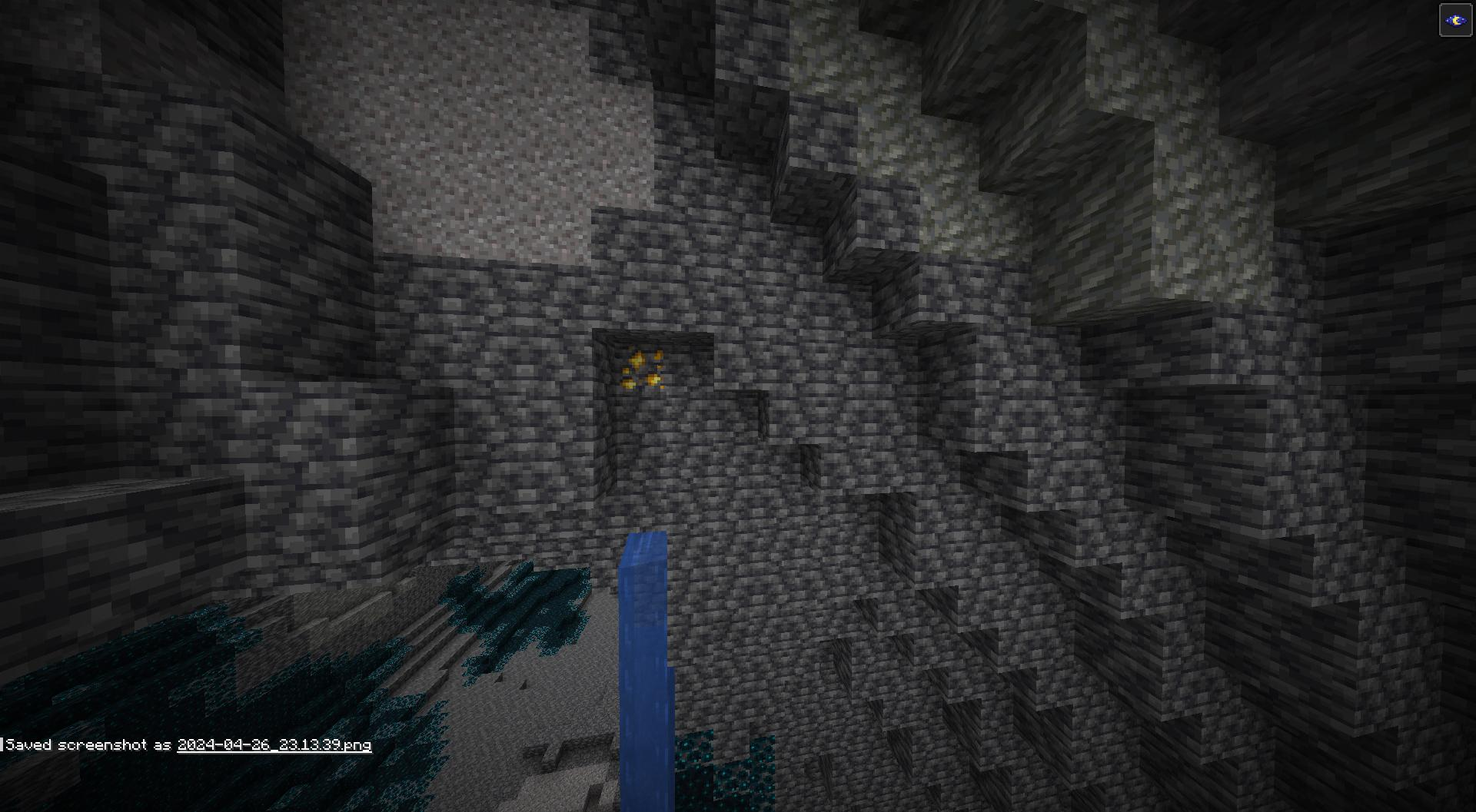gold ore: (615, 342, 669, 393)
